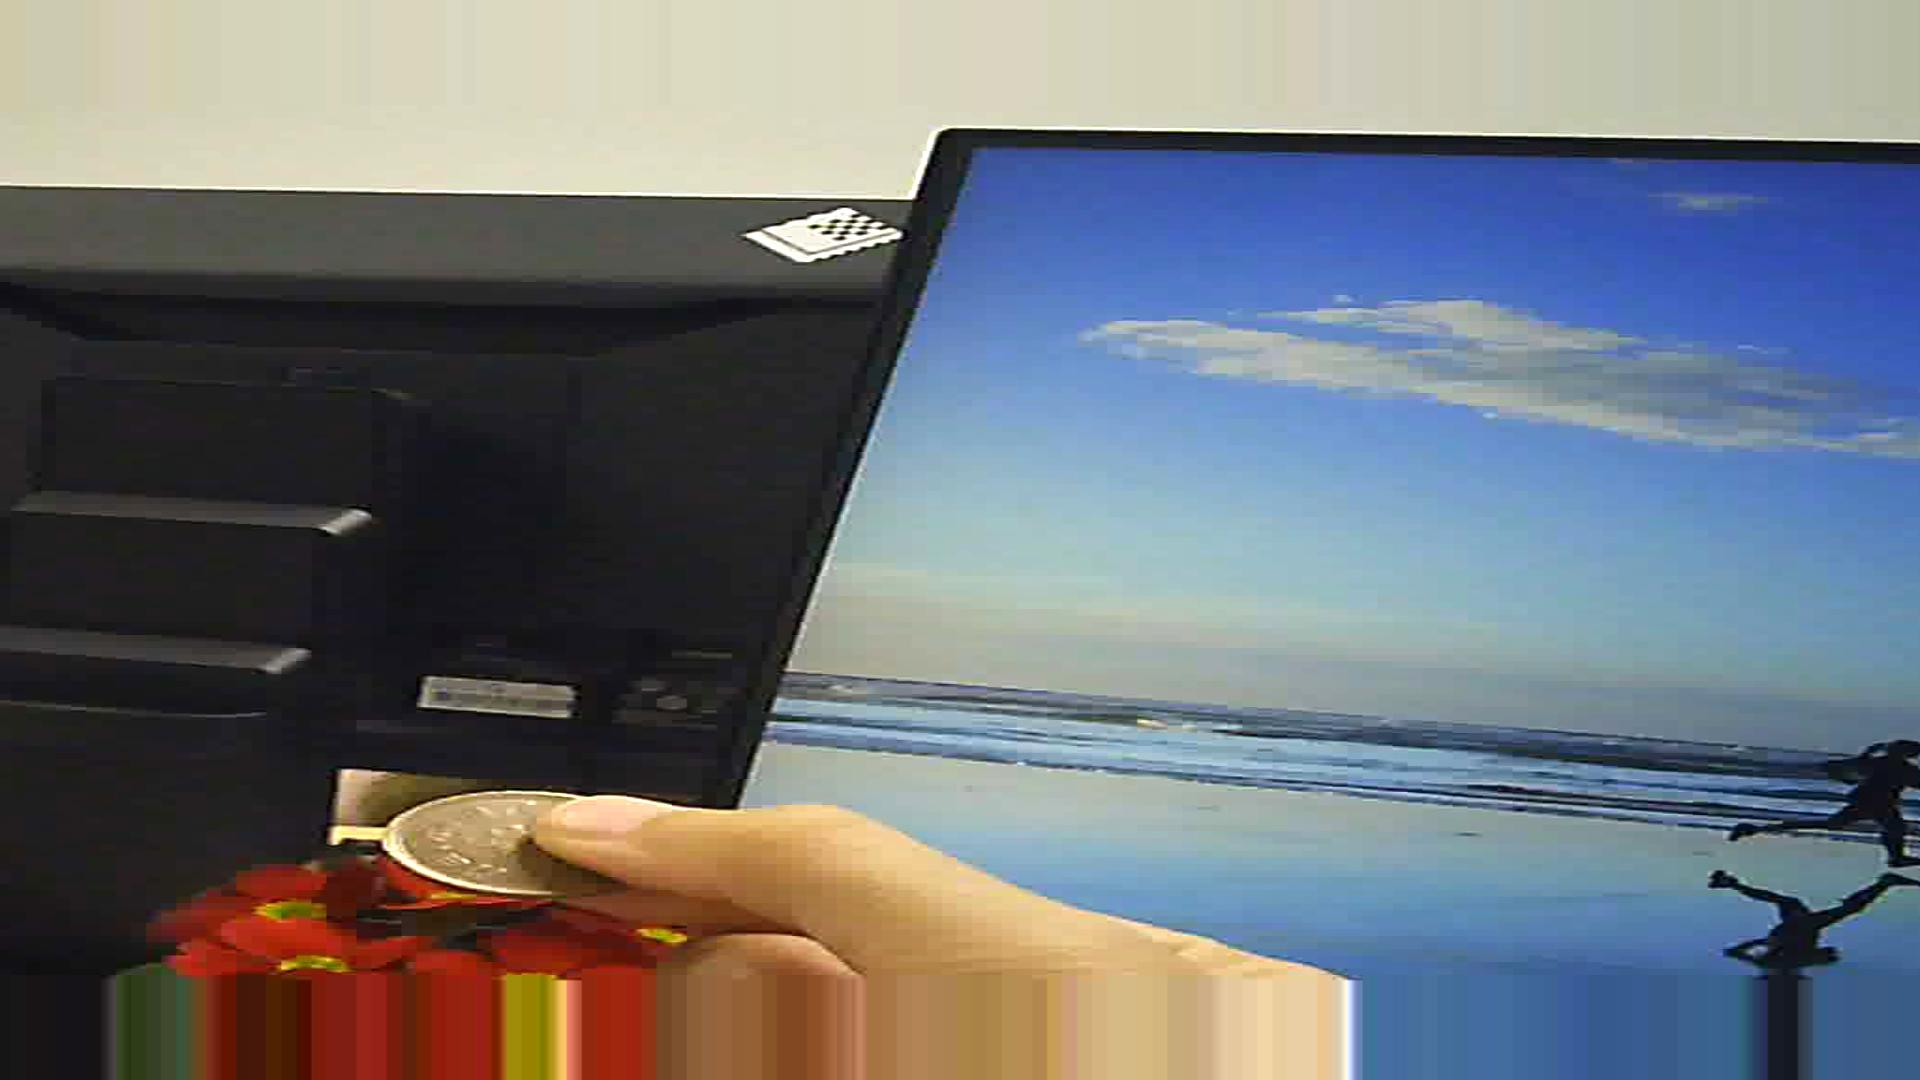10 Yen: (371, 783, 659, 922)
